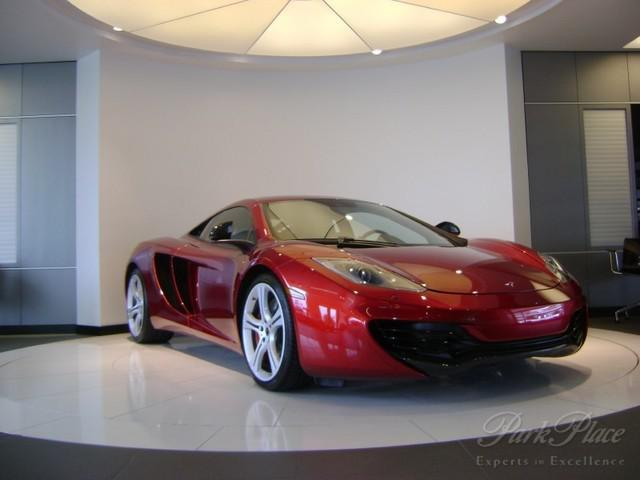Car: (100, 171, 620, 411)
